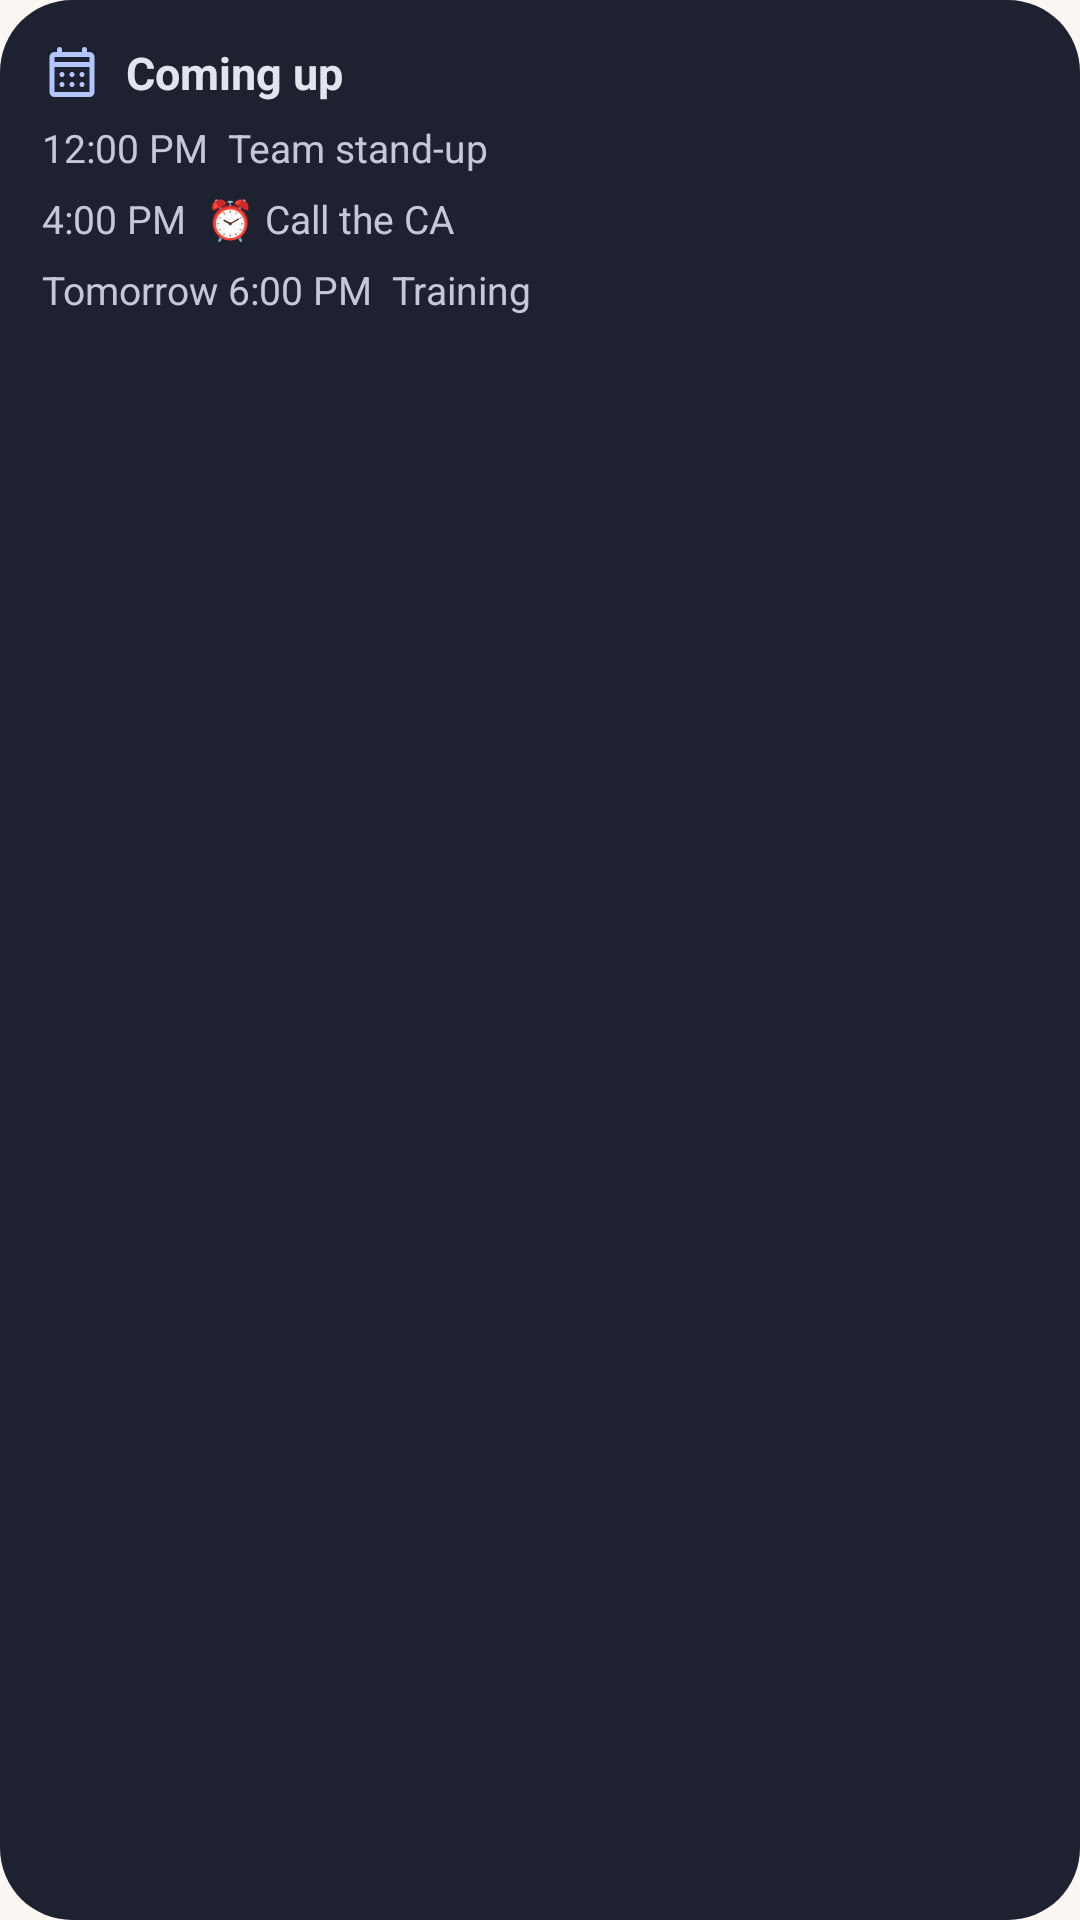

Icon bounding boxes for this 1080*1920 phone screenshot, format (x1, y1, x2, y2):
calendar month: (49, 47, 95, 97)
